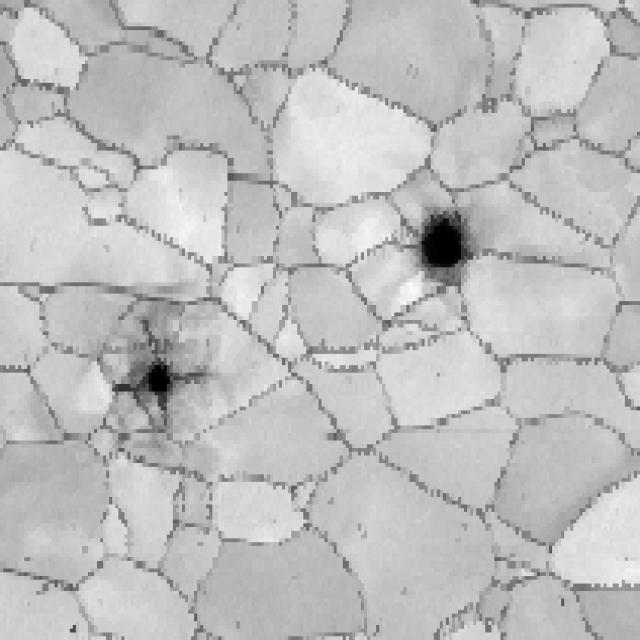good_void: (109, 309, 219, 445), (407, 202, 477, 282), (66, 620, 79, 636), (557, 593, 568, 609)
